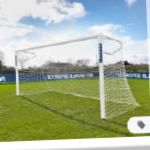goals: (12, 32, 139, 119)
